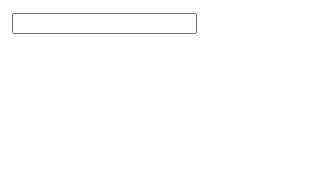
it: MoneyInput › shows the thousands commas live as digits are typed, with no comma typed at all
The width and height of the screenshot is (332, 172).
Type "1500000" into the field named "amount" at (104,24), box x1=12 y1=13 x2=197 y2=34
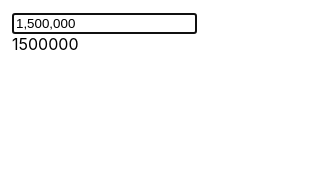
Result: the field named "amount" holds "1,500,000" at x1=12 y1=13 x2=197 y2=34
Result: the text with test id "raw" reads "1500000" at x1=12 y1=34 x2=78 y2=54
